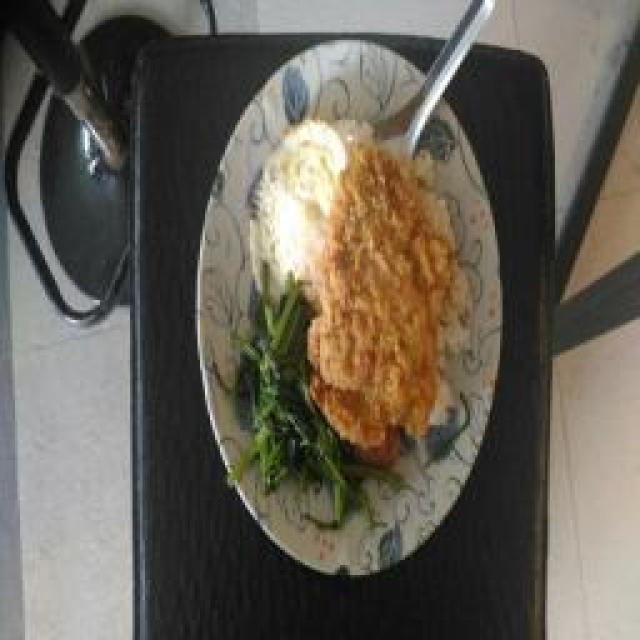Wet Waste: (308, 145, 452, 435), (243, 120, 345, 298), (233, 278, 315, 482)
